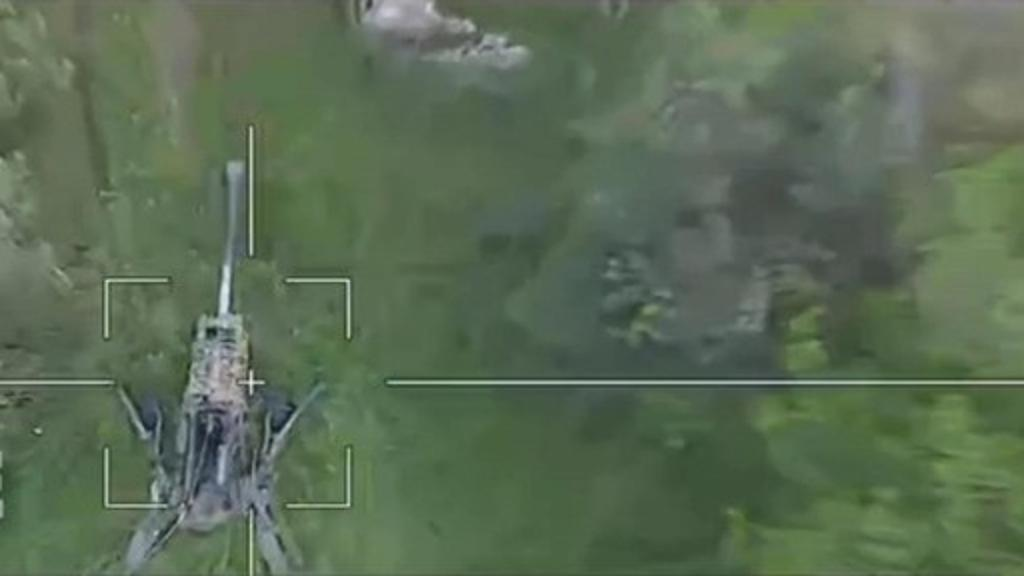ART: (114, 150, 324, 570)
